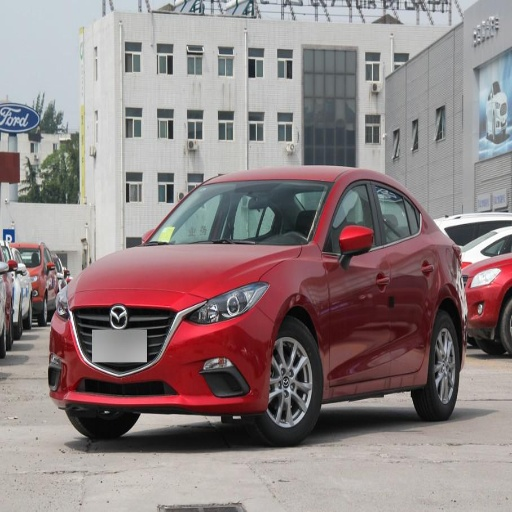back_glass: (370, 178, 436, 375)
back_right_light: (50, 290, 279, 415)
front_bumper: (141, 184, 332, 245)
front_glass: (323, 176, 391, 386)
front_left_door: (181, 281, 267, 324)
front_right_light: (74, 245, 304, 298)
trunk: (257, 321, 319, 444), (414, 313, 460, 420), (71, 407, 137, 448)
